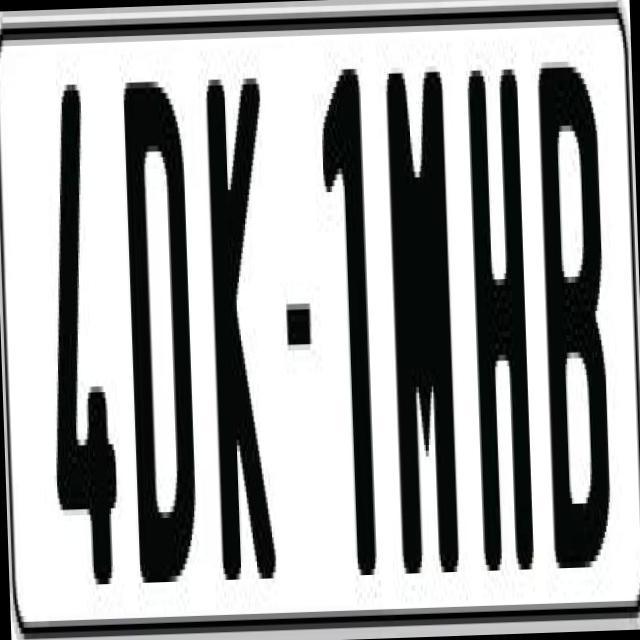1: (318, 51, 384, 570)
4: (42, 65, 129, 597)
B: (534, 59, 618, 592)
D: (118, 74, 197, 606)
H: (463, 57, 537, 570)
K: (200, 66, 276, 604)
M: (381, 59, 462, 591)
